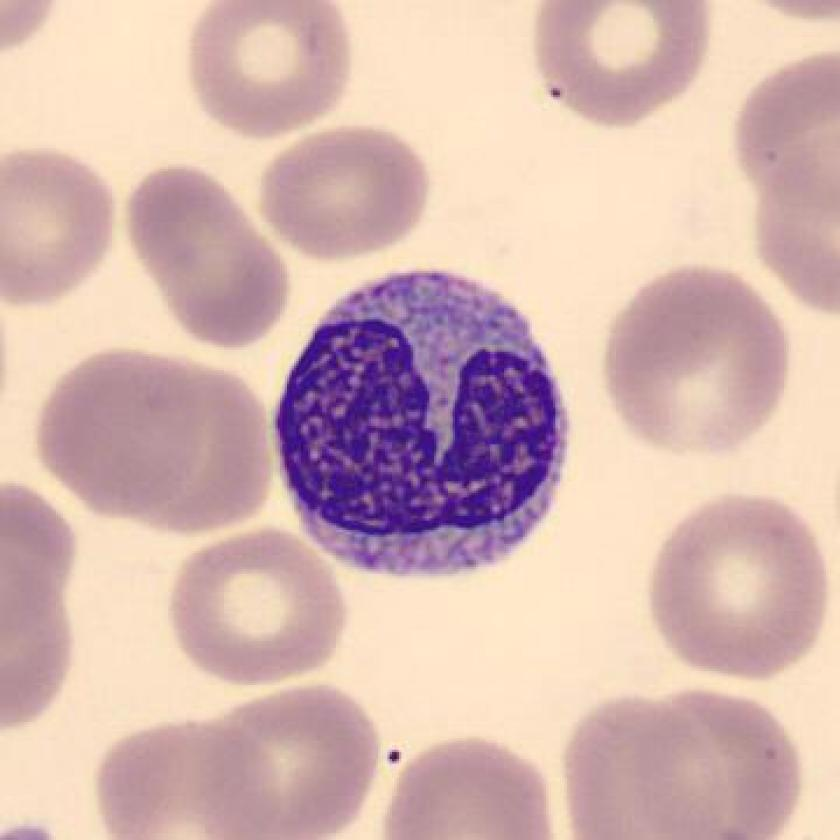monocyte: (255, 249, 587, 605)
